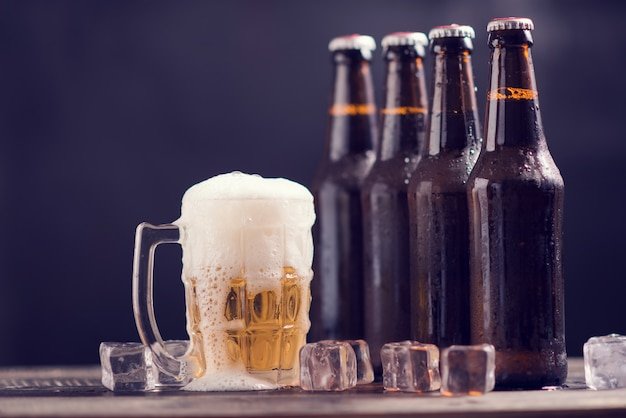alcohol: (132, 173, 312, 388), (467, 16, 566, 388), (416, 25, 490, 388), (318, 31, 386, 381), (365, 32, 432, 386)
